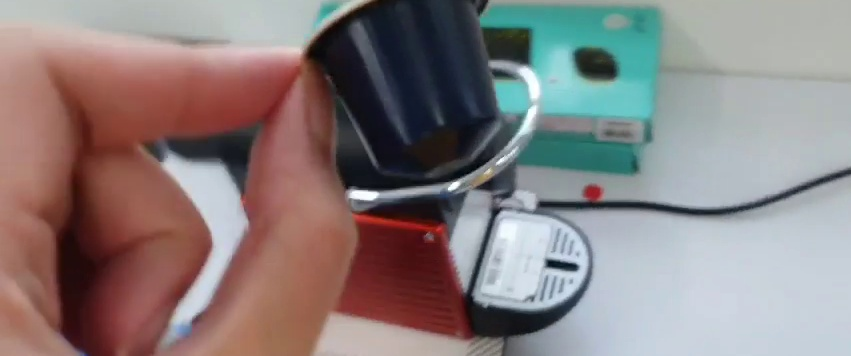capsule_1: (303, 1, 505, 180)
